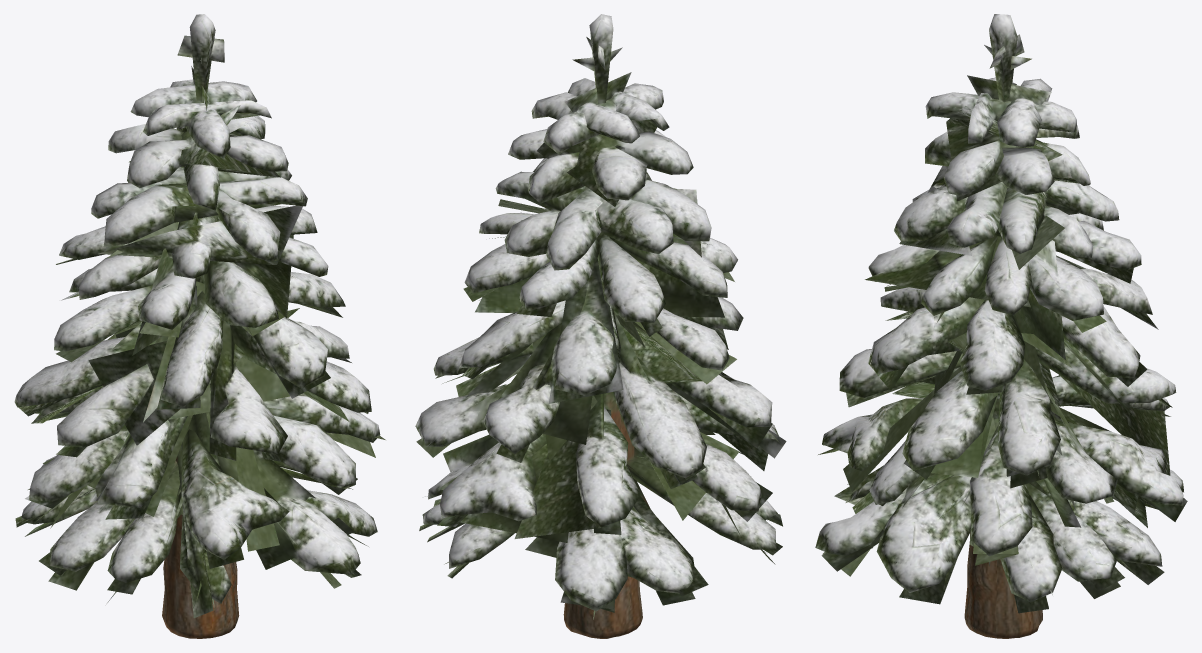
The model's file is AW-XMAS-TREE-002-v0.2.glb.
3 views of the same model, side by side, from view 1: azimuth 30°, elevation 25°; view 2: azimuth 150°, elevation 25°; view 3: azimuth 270°, elevation 25° (orthographic).
Visible parts, largest first — view 1: AW-XMAS-TREE-002_meter_ground_pivot; view 2: AW-XMAS-TREE-002_meter_ground_pivot; view 3: AW-XMAS-TREE-002_meter_ground_pivot.
Boxes of the visible parts, <box> form: AW-XMAS-TREE-002_meter_ground_pivot: <box>14,14,385,638</box>; AW-XMAS-TREE-002_meter_ground_pivot: <box>415,14,786,638</box>; AW-XMAS-TREE-002_meter_ground_pivot: <box>815,14,1187,638</box>.
Size of the model in its own units: 2.93 by 5 by 2.76.
1 material, 1 textured.
